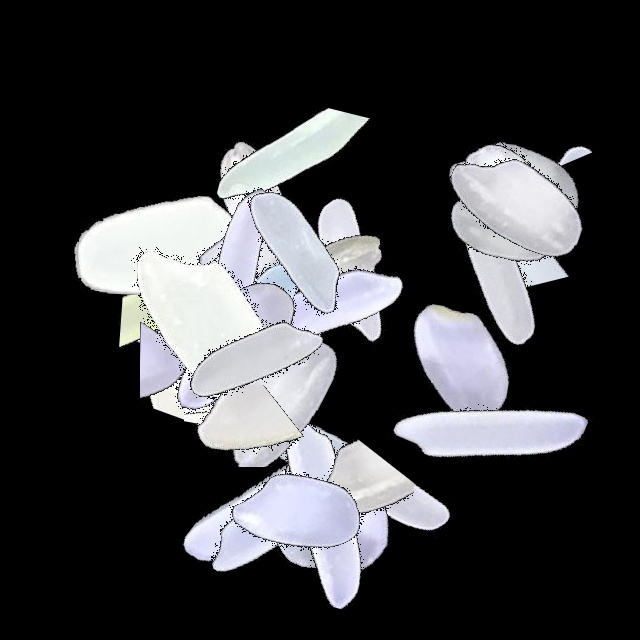Broken: (205, 60, 374, 310), (220, 390, 386, 640), (115, 301, 365, 467), (150, 244, 311, 494), (384, 134, 634, 288), (181, 484, 431, 633), (132, 245, 382, 393), (69, 236, 319, 381), (240, 468, 490, 606), (281, 390, 414, 640), (112, 308, 362, 434), (153, 165, 276, 415), (140, 238, 256, 488), (111, 385, 361, 499), (212, 181, 321, 431), (187, 206, 295, 456), (227, 208, 330, 458), (184, 255, 281, 505), (215, 155, 308, 405), (390, 88, 640, 181)
Full: (143, 377, 393, 627), (49, 193, 299, 443), (130, 75, 380, 325), (200, 390, 450, 640), (51, 119, 301, 369), (109, 214, 359, 464), (125, 190, 375, 440), (333, 239, 583, 489), (390, 57, 640, 307), (203, 337, 453, 587), (227, 144, 477, 394), (390, 74, 640, 324), (119, 140, 369, 390), (374, 155, 624, 405), (390, 102, 640, 352), (172, 204, 422, 454), (221, 390, 471, 640), (390, 78, 640, 328), (199, 162, 449, 412), (181, 390, 431, 640), (184, 190, 434, 440), (193, 386, 443, 636), (135, 214, 385, 464), (115, 158, 365, 408), (124, 208, 374, 458), (174, 125, 424, 375), (83, 207, 333, 457), (366, 303, 616, 553), (173, 390, 423, 640), (130, 240, 380, 490)
